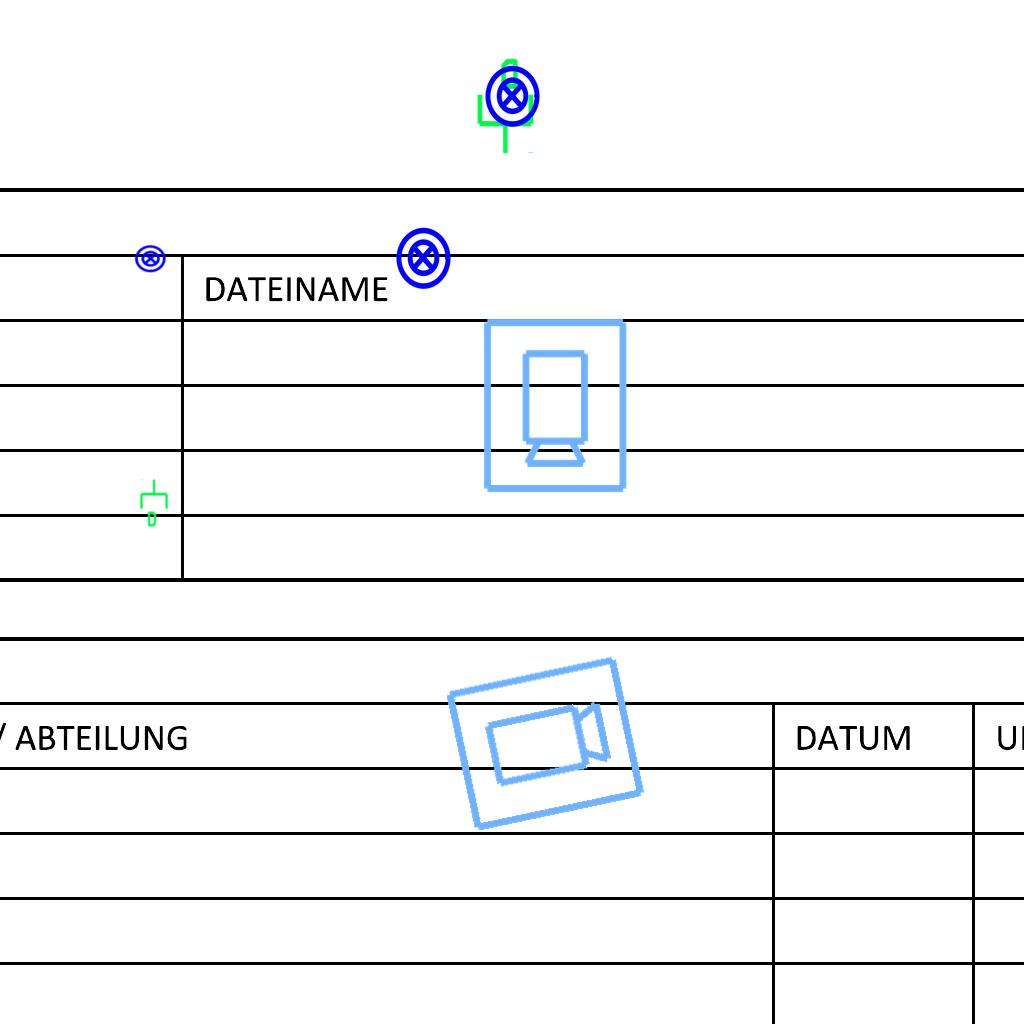Datenanschluss_einfach: (469, 56, 538, 156), (138, 478, 172, 528)
KFO_Kamera_mit_Festobjektiv: (439, 650, 651, 840), (477, 314, 631, 496)
Taster_beleuchtet: (390, 225, 456, 291), (479, 63, 545, 129), (134, 242, 167, 275)
